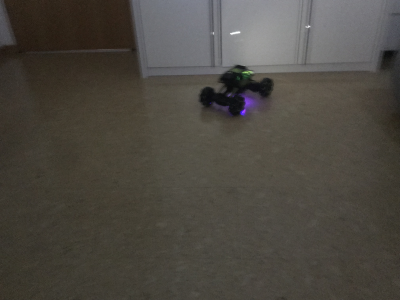remote control car: (194, 62, 277, 115)
